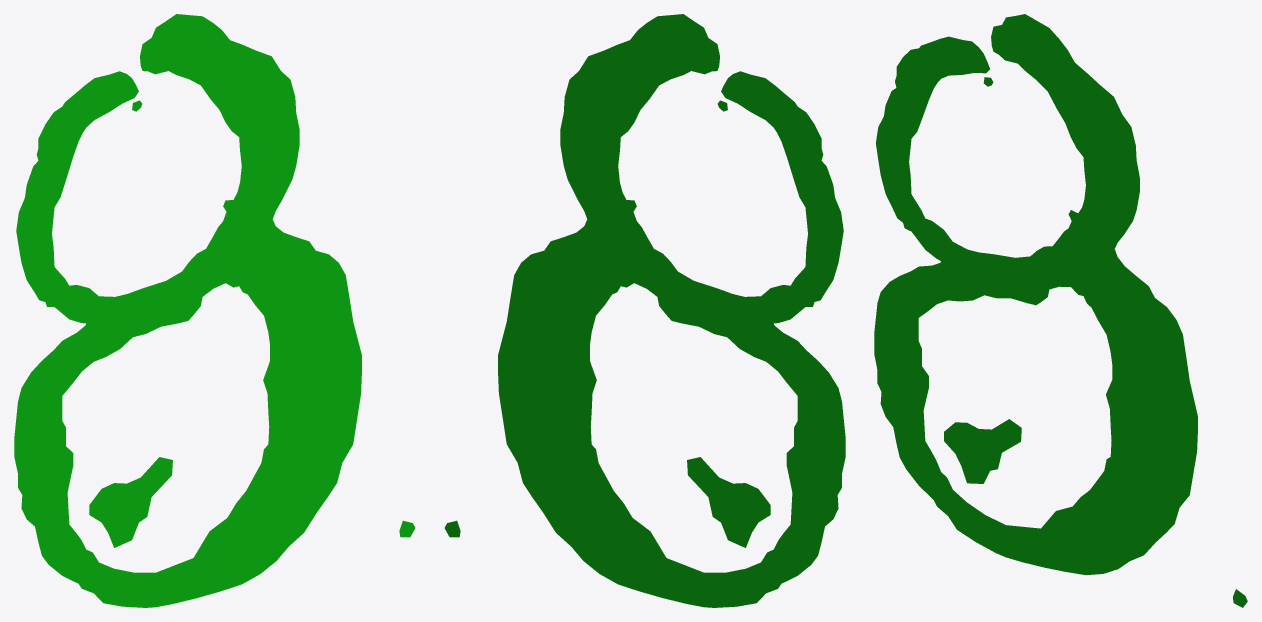
The model's file is hseight.obj.
The picture shows the model from 3 angles, left to right: view 1: azimuth 30°, elevation 25°; view 2: azimuth 150°, elevation 25°; view 3: azimuth 330°, elevation 25°; orthographic projection. The views are drawn at different scales.
Parts seen in each view (by area): view 1: hseight.008; view 2: hseight.008; view 3: hseight.008.
Boxes of the visible parts, bbox=[...] form: hseight.008: bbox=[14, 14, 415, 607]; hseight.008: bbox=[444, 14, 845, 607]; hseight.008: bbox=[874, 14, 1247, 607].
Size of the model in its own units: 0.3898 by 0.5472 by 0.
